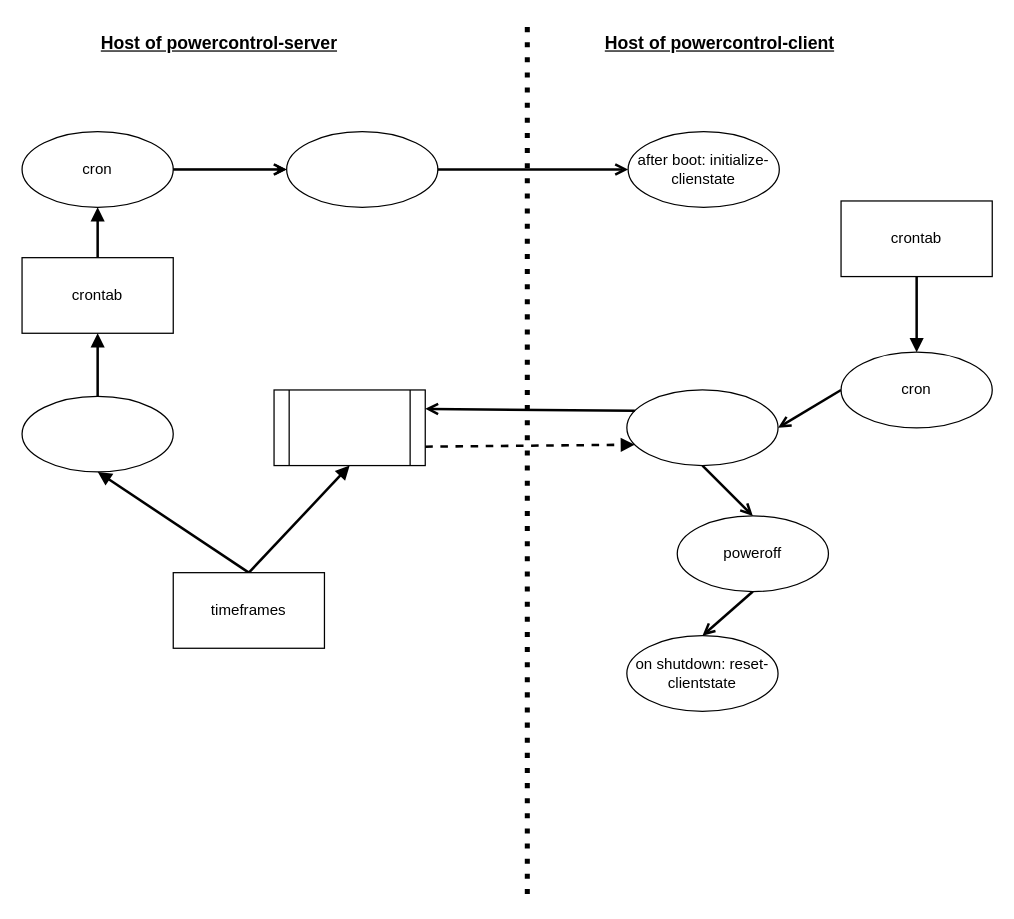
Image size: 1014x919. Some labels were removed from this diagram. The shapes that lost their labels are listed below. From the top down, each one's box as (x1, y1, x2, y2) in pixels, then its label:
(285, 130, 438, 207): etherwake
(21, 395, 173, 472): configure-crontab
(273, 389, 425, 466): powercontrol-server
(626, 389, 778, 466): statecheck-poweroff
